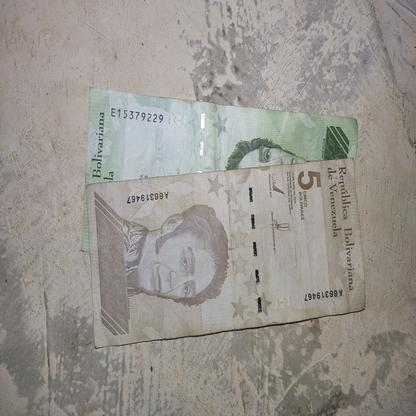fifty-front-vef: (79, 86, 358, 252)
